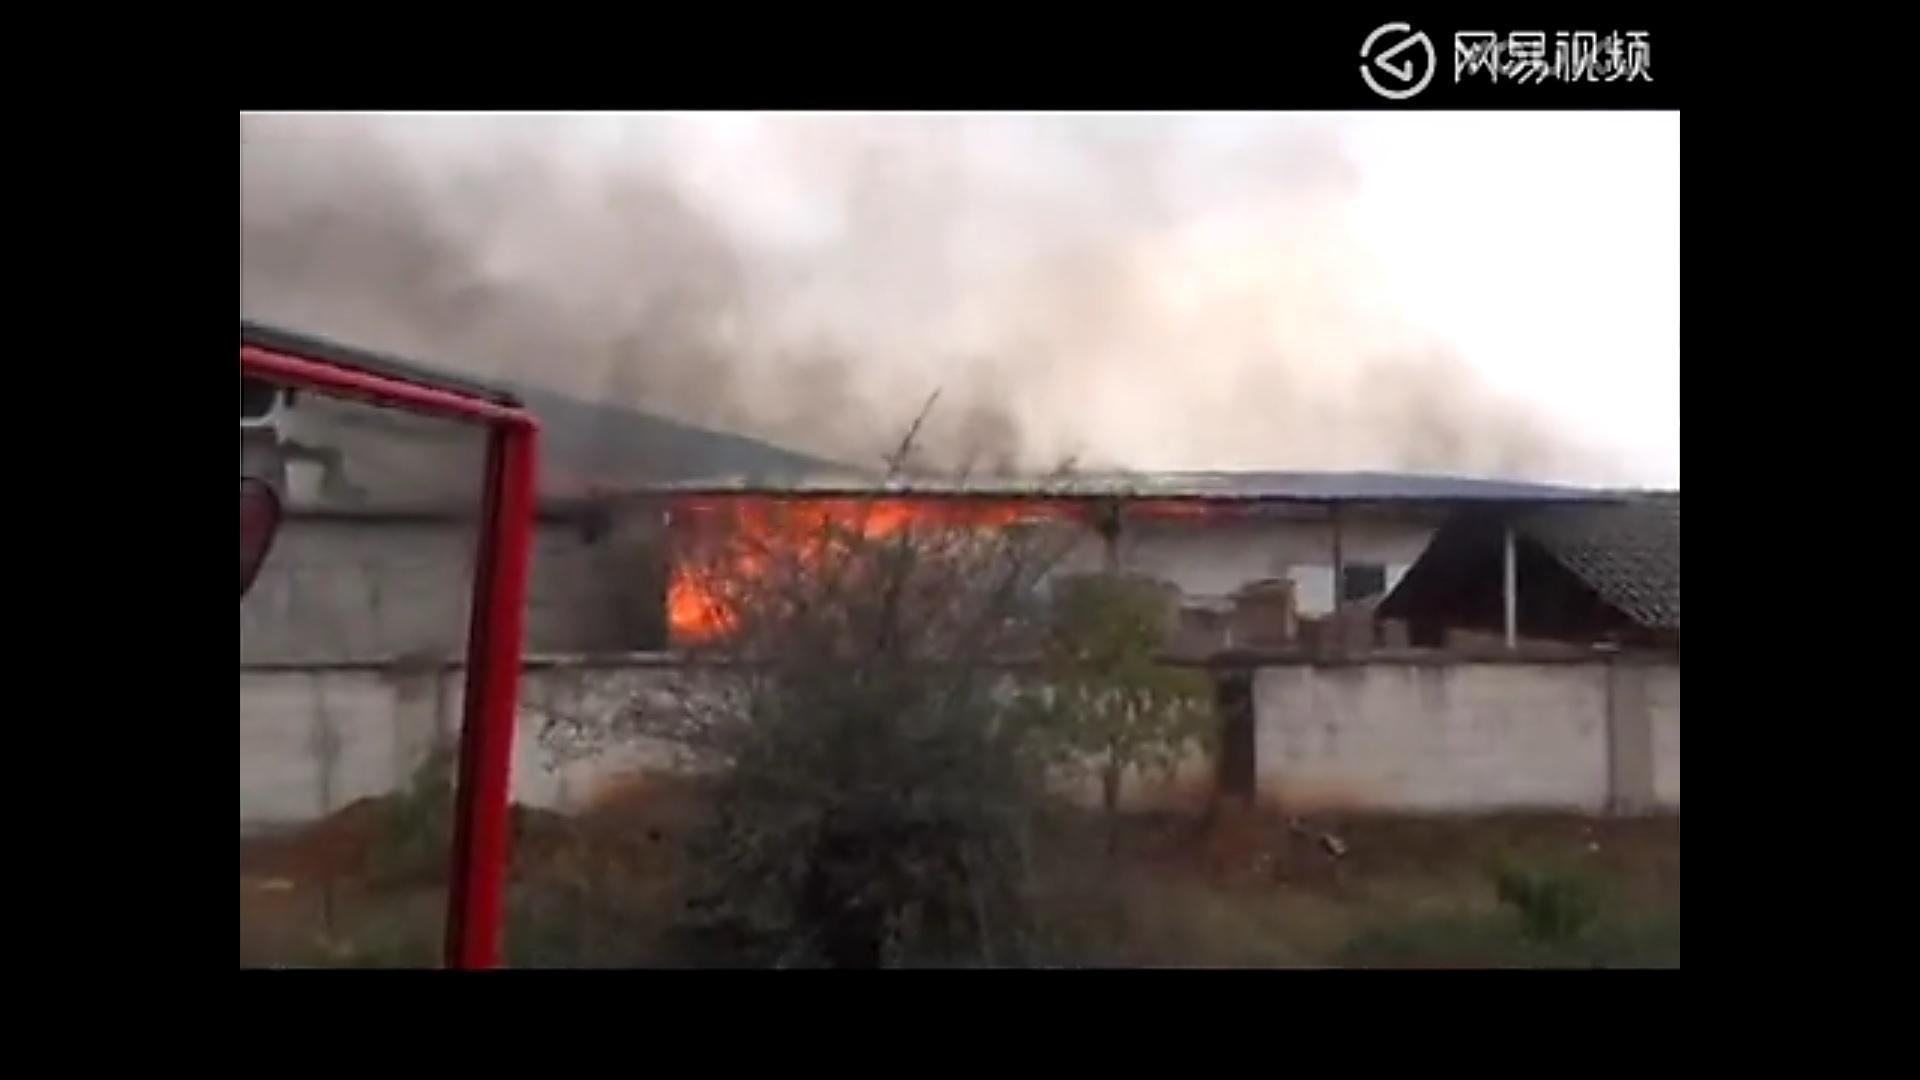fire: (659, 493, 928, 640)
